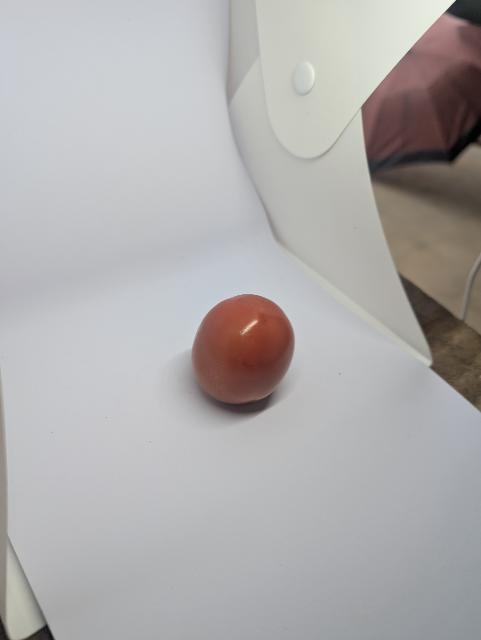red: (185, 288, 302, 419)
